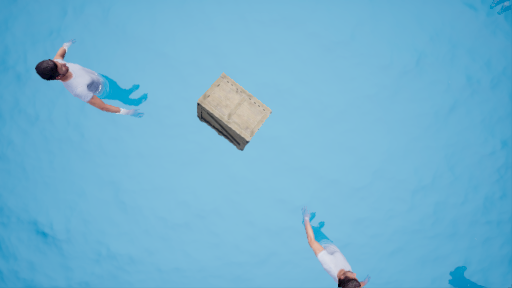person: (31, 43, 157, 133), (303, 216, 374, 288)
